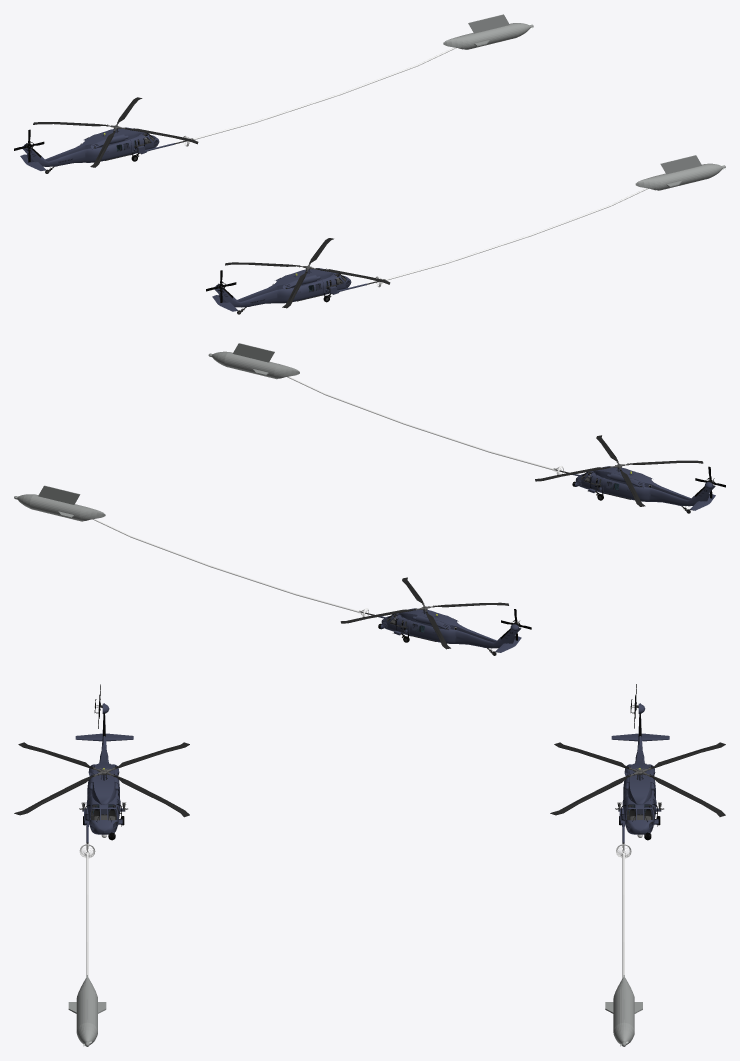
3 views of the same model, one above another, from view 1: azimuth 30°, elevation 25°; view 2: azimuth 150°, elevation 25°; view 3: azimuth 270°, elevation 25° (orthographic). The views are drawn at different scales.
Parts seen in each view (by area): view 1: Sphere.002, Sphere.001, 立方体.003, 立方体.004, Circle.005, Circle.002, 立方体.005, 立方体.001; view 2: Sphere.001, Sphere.002, 立方体.003, 立方体.004, Circle.002, Circle.005, 立方体.005, 立方体.001; view 3: Sphere.001, Sphere.002, Circle.005, Circle.002, 立方体.003, 立方体.004.
Part boxes in pixels (left/top/right/bottom): Sphere.002: left=212, top=268, right=366, bottom=314; Sphere.001: left=20, top=127, right=174, bottom=173; 立方体.003: left=635, top=155, right=725, bottom=190; 立方体.004: left=443, top=14, right=533, bottom=49; Circle.005: left=33, top=97, right=198, bottom=167; Circle.002: left=225, top=238, right=390, bottom=308; 立方体.005: left=183, top=47, right=456, bottom=146; 立方体.001: left=375, top=188, right=648, bottom=287; Sphere.001: left=378, top=608, right=521, bottom=655; Sphere.002: left=572, top=466, right=715, bottom=513; 立方体.003: left=208, top=343, right=299, bottom=379; 立方体.004: left=14, top=485, right=105, bottom=521; Circle.002: left=535, top=435, right=703, bottom=506; Circle.005: left=340, top=577, right=508, bottom=649; 立方体.005: left=92, top=519, right=368, bottom=617; 立方体.001: left=287, top=376, right=563, bottom=474; Sphere.001: left=611, top=703, right=669, bottom=843; Sphere.002: left=75, top=703, right=133, bottom=843; Circle.005: left=550, top=742, right=725, bottom=816; Circle.002: left=14, top=742, right=189, bottom=817; 立方体.003: left=68, top=975, right=106, bottom=1046; 立方体.004: left=605, top=975, right=642, bottom=1046.
Size of the model in its own units: 52.86 by 5.45 by 45.31.
Materials: 55 (4 with a texture image).
